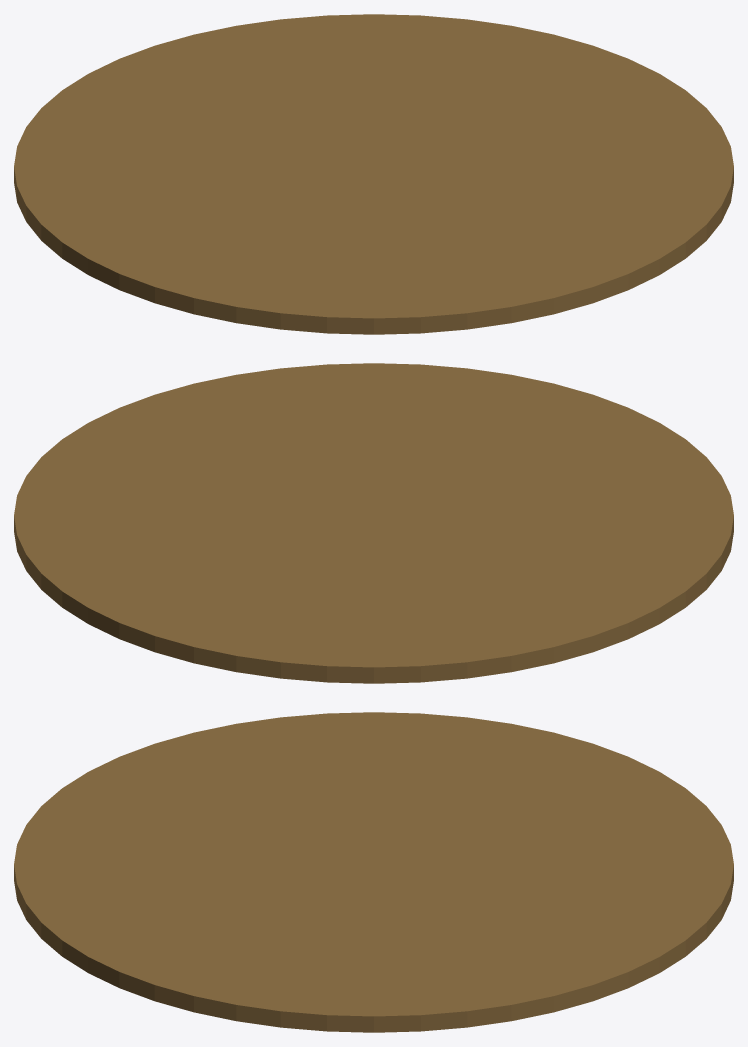
Rendered from VCV.glb.
3 renders of one model, top to bottom at view 1: azimuth 30°, elevation 25°; view 2: azimuth 150°, elevation 25°; view 3: azimuth 270°, elevation 25°, orthographic.
Visible parts, largest first — view 1: Mesh_Mesh_head_geo.001_lambert2SG.001; view 2: Mesh_Mesh_head_geo.001_lambert2SG.001; view 3: Mesh_Mesh_head_geo.001_lambert2SG.001.
Boxes of the visible parts, x1,y1,x2,y2 form: Mesh_Mesh_head_geo.001_lambert2SG.001: (14,14,733,334); Mesh_Mesh_head_geo.001_lambert2SG.001: (14,363,733,683); Mesh_Mesh_head_geo.001_lambert2SG.001: (14,712,733,1032).
Size of the model in its own units: 0.02 by 0.0005 by 0.02.
